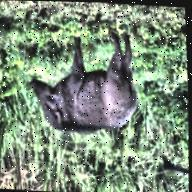boar: (25, 21, 150, 148)
